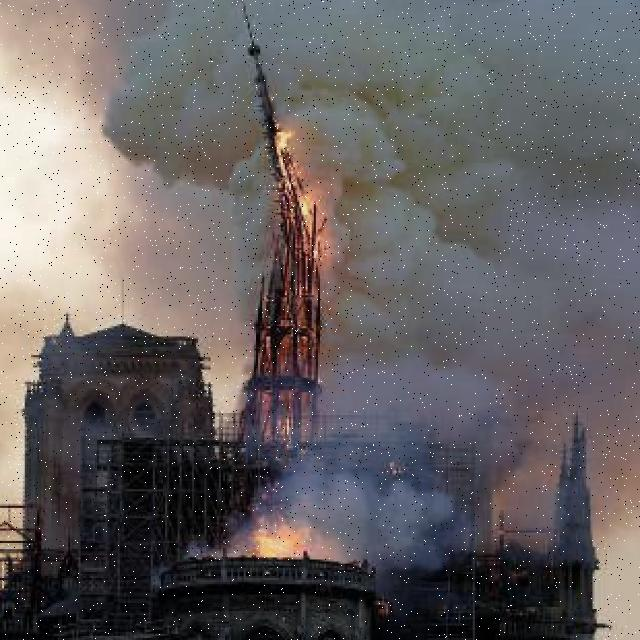fire: (266, 124, 336, 446), (250, 516, 322, 570)
smoke: (149, 500, 254, 586)
